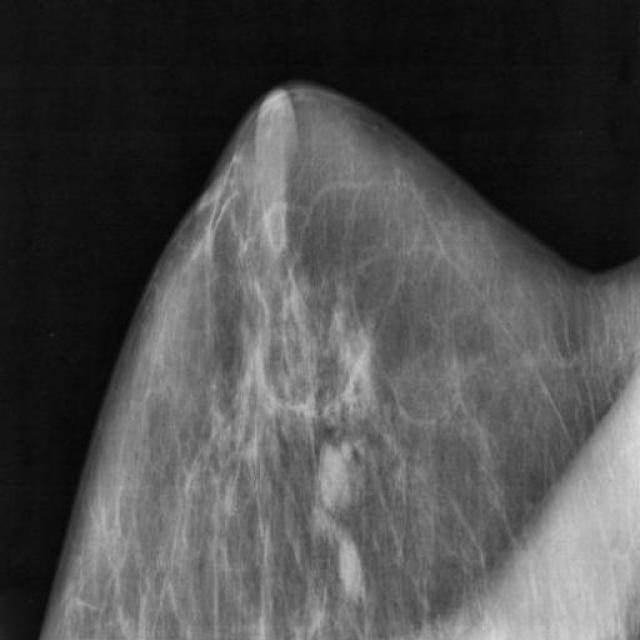cancer: (316, 498, 378, 627), (304, 418, 364, 547)
